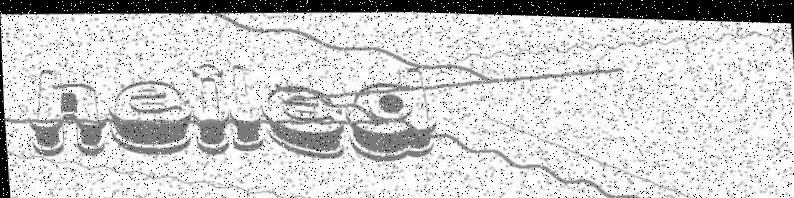d: (341, 58, 441, 158)
e: (260, 73, 350, 162), (103, 76, 197, 160)
h: (29, 65, 106, 164)
i: (187, 54, 236, 163)
l: (226, 54, 269, 162)
